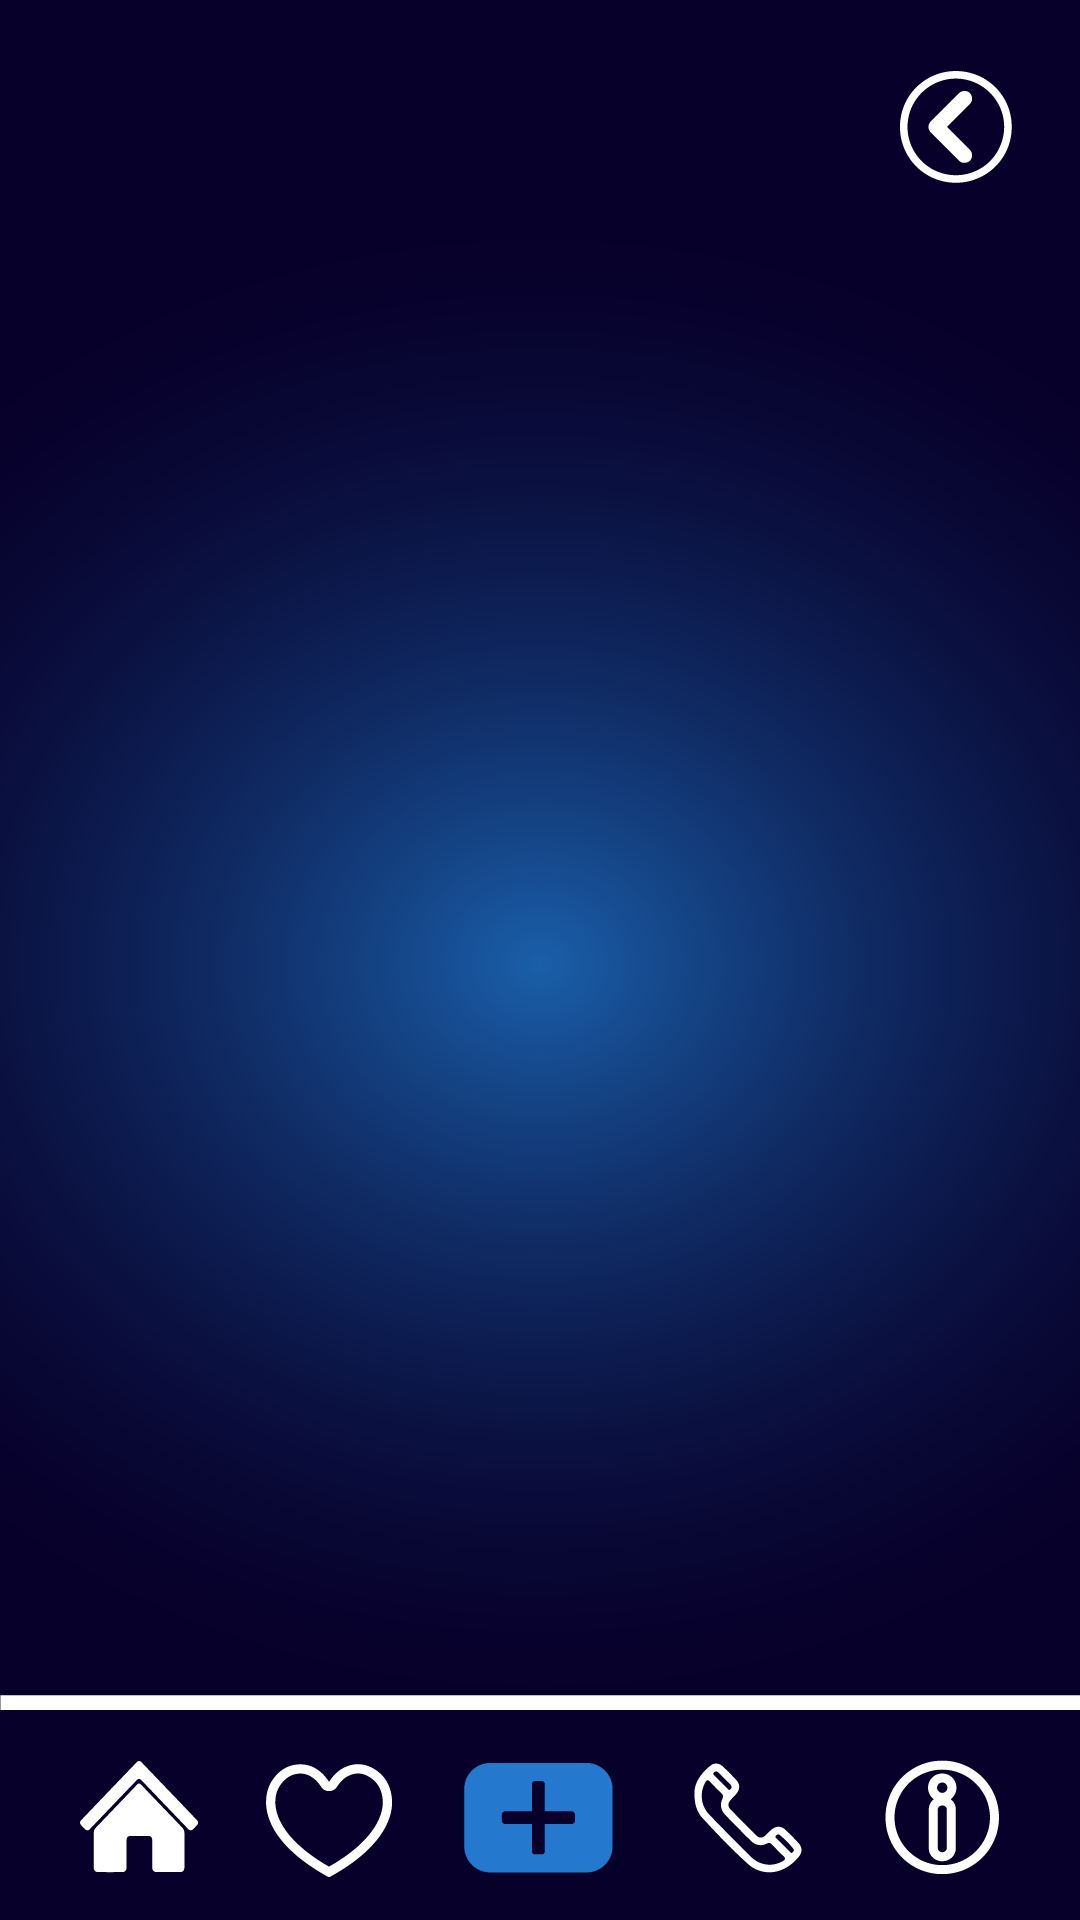

Icon bounding boxes for this 1080 × 1920 phone screenshot, format box=[x1, y1, x2, y2]:
add: box=[464, 1763, 613, 1873]
btnback: box=[900, 71, 1012, 183]
contactvien: box=[694, 1763, 802, 1873]
heartvien: box=[266, 1764, 392, 1877]
homeactive: box=[80, 1761, 198, 1873]
infovien: box=[885, 1760, 999, 1874]
